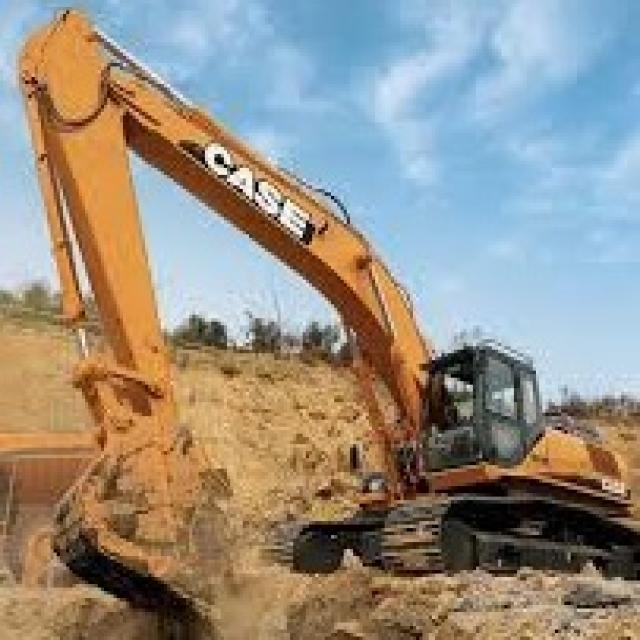excavator: (270, 333, 634, 592)
